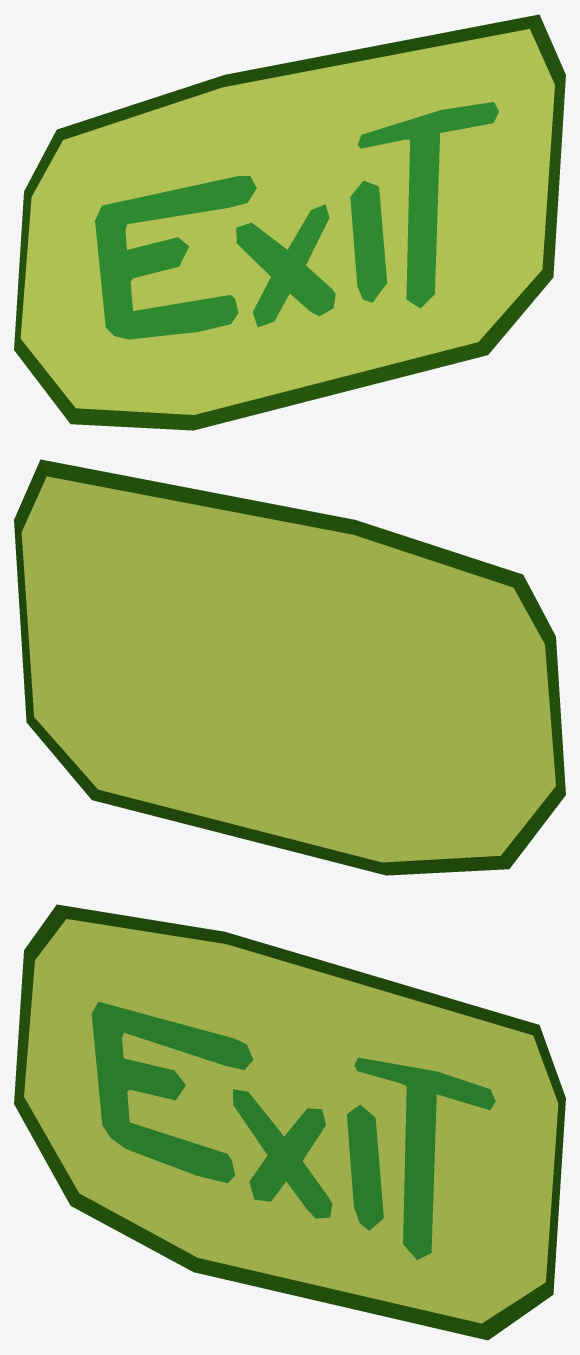
The model's file is exit-001.gltf.
The picture shows the model from 3 angles, top to bottom: view 1: azimuth 30°, elevation 25°; view 2: azimuth 150°, elevation 25°; view 3: azimuth 330°, elevation 25°; orthographic projection.
Parts seen in each view (by area): view 1: Cartel-Exit-f.001; view 2: Cartel-Exit-f.001; view 3: Cartel-Exit-f.001.
Boxes of the visible parts, bbox=[...] form: Cartel-Exit-f.001: bbox=[14, 14, 565, 430]; Cartel-Exit-f.001: bbox=[14, 459, 565, 875]; Cartel-Exit-f.001: bbox=[14, 904, 565, 1340].
Size of the model in its own units: 0.2773 by 0.1671 by 0.00296.
Materials: 1 (1 with a texture image).
